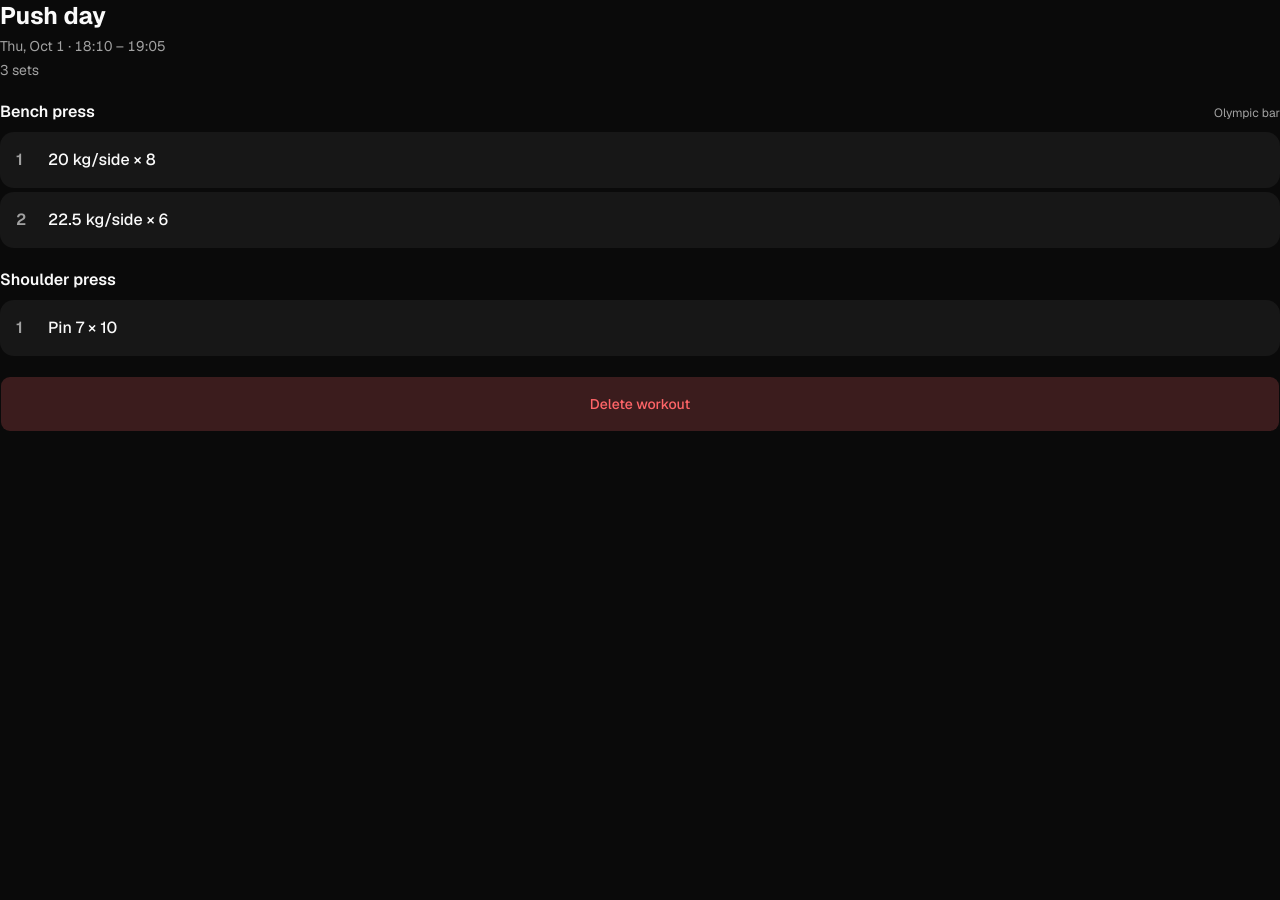
Test: WorkoutDetail › cancels without deleting
Click the button "Delete workout".
click(640, 404)  # box [0,376,1279,432]
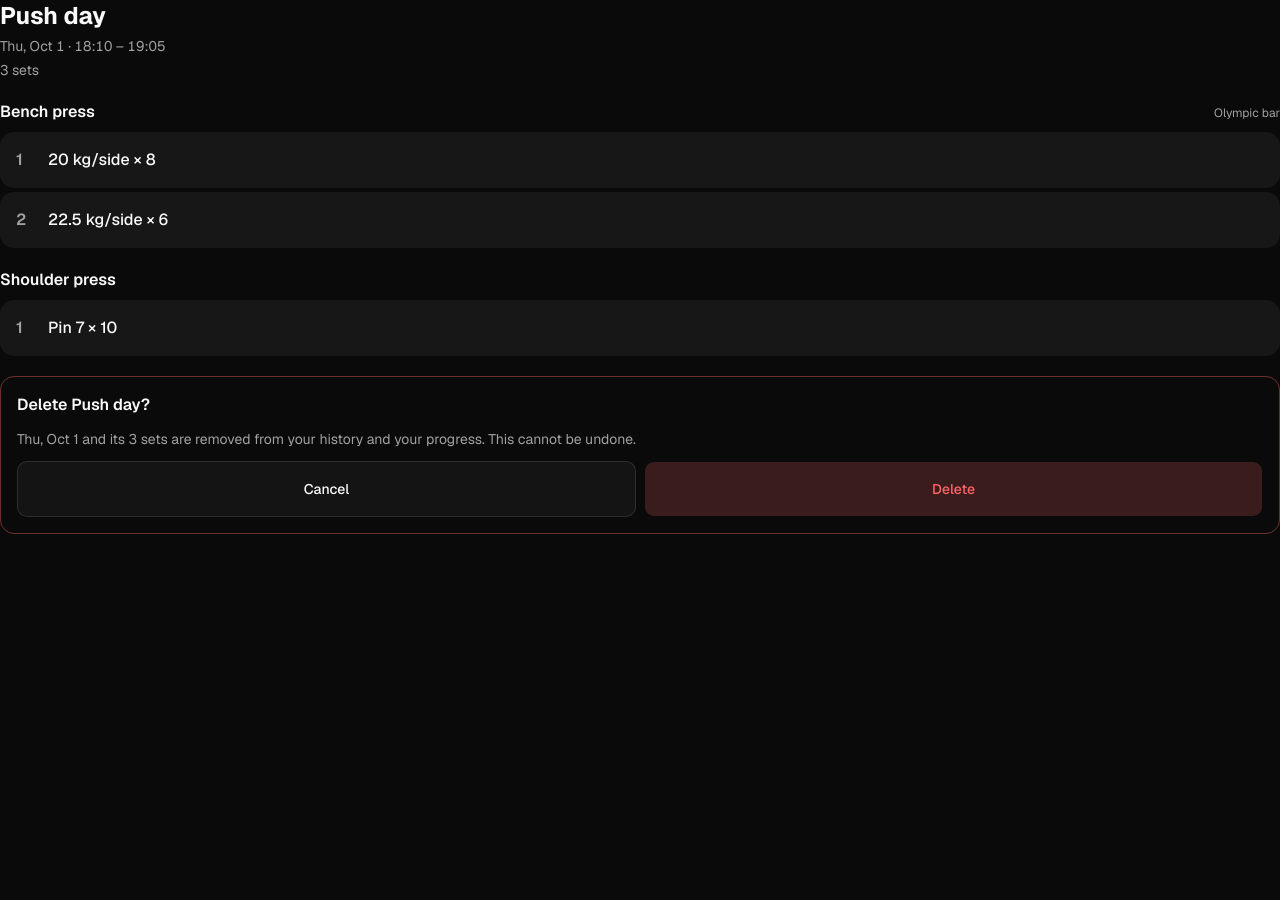
Click the button "Cancel".
click(326, 489)  # box [17,461,636,517]
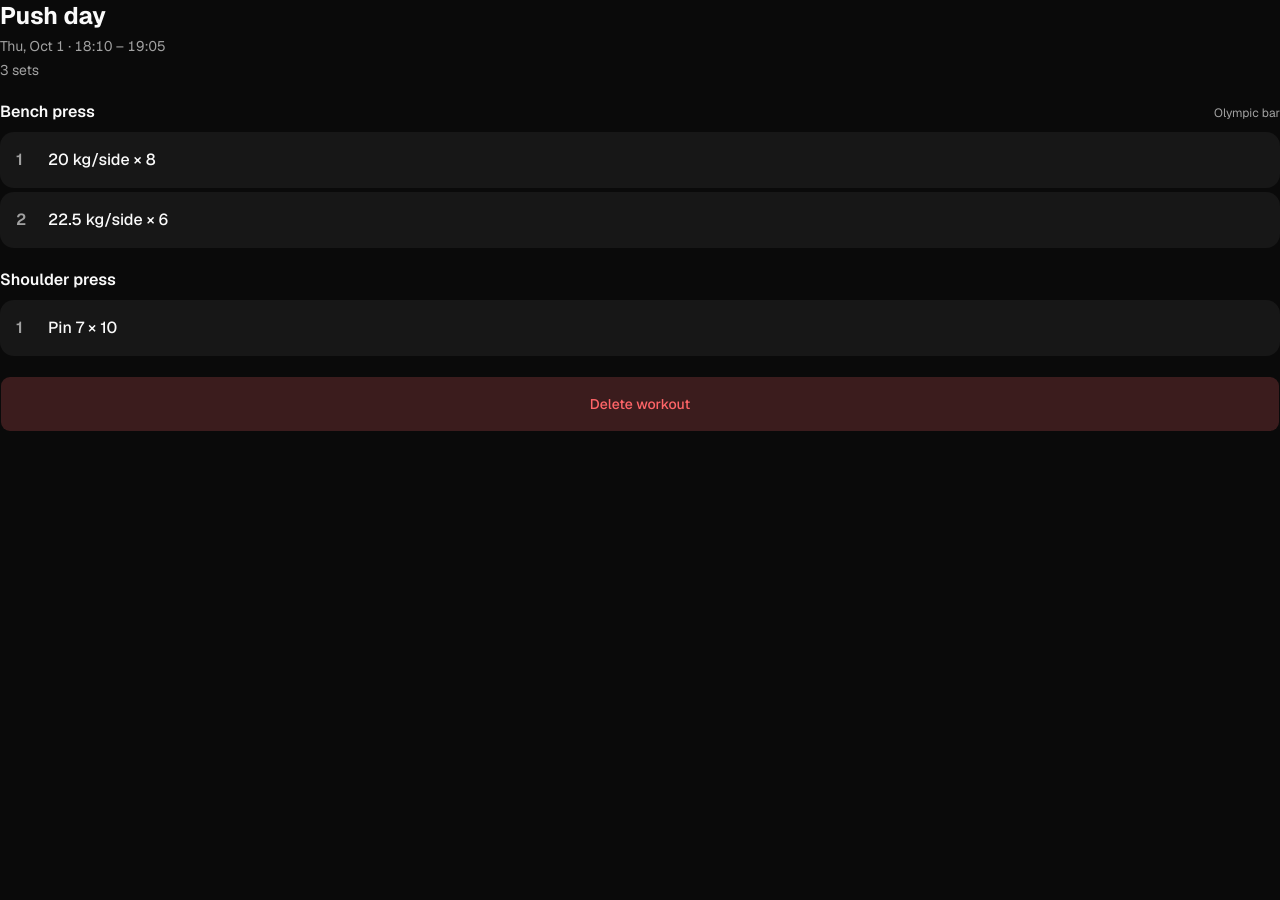
Expected: the dialog is gone
